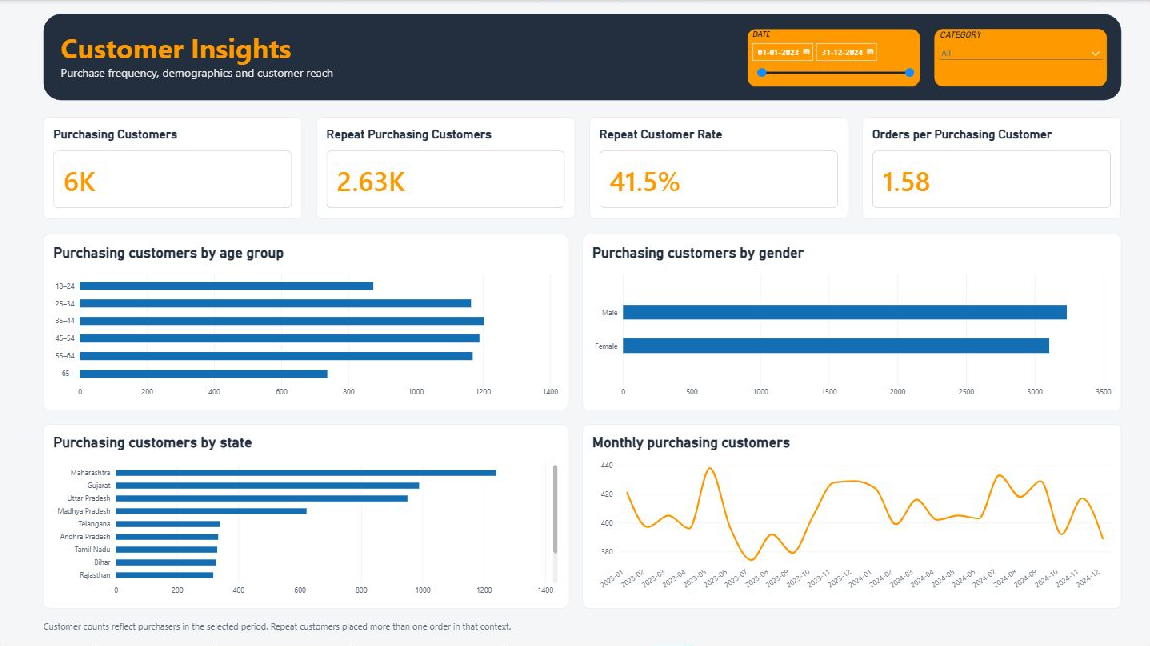

The page's visual inventory and layout, read from the dashboard file:
{"tool":"powerbi","page":{"name":"Customer Insights","canvas":[1920,1080],"ordinal":2},"visuals":[{"type":"cardVisual","title":"Repeat Purchasing Customers","fields":{"Data":["Dim_Customer.Repeat Purchasing Customers"]},"box":[528,196,432,170],"z":0},{"type":"clusteredBarChart","title":"Purchasing customers by gender","fields":{"Category":["Dim_Customer.Gender"],"Y":["Dim_Customer.Purchasing Customers"]},"box":[972,390,900,294],"z":1000},{"type":"cardVisual","title":"Orders per Purchasing Customer","fields":{"Data":["Dim_Customer.Orders per Purchasing Customer"]},"box":[1440,196,432,170],"z":2000},{"type":"textbox","box":[72,24,1800,144],"z":3000},{"type":"cardVisual","title":"Repeat Customer Rate","fields":{"Data":["Dim_Customer.Repeat Customer Rate"]},"box":[984,196,432,170],"z":4000},{"type":"clusteredBarChart","title":"Purchasing customers by state","fields":{"Category":["Dim_Customer.State"],"Y":["Dim_Customer.Purchasing Customers"]},"box":[72,708,876,308],"z":5000},{"type":"slicer","fields":{"Values":["Dim_Date.Date"]},"box":[1248,48,288,96],"z":6000},{"type":"lineChart","title":"Monthly purchasing customers","fields":{"Category":["Dim_Date.Year-Month"],"Y":["Dim_Customer.Purchasing Customers"]},"box":[972,708,900,308],"z":7000},{"type":"cardVisual","title":"Purchasing Customers","fields":{"Data":["Dim_Customer.Purchasing Customers"]},"box":[72,196,432,170],"z":8000},{"type":"clusteredBarChart","title":"Purchasing customers by age group","fields":{"Category":["Dim_Customer.Age Group"],"Y":["Dim_Customer.Purchasing Customers"]},"box":[72,390,876,294],"z":9000},{"type":"slicer","fields":{"Values":["Dim_Product.Category"]},"box":[1560,48,288,96],"z":10000},{"type":"textbox","box":[72,1036,1800,32],"z":11000}]}

Visuals, with their boxes in screenshot pixels (x1, y1, x2, y2), scaled from the page's 1920x1080 canvas onto the 1150x646 screenshot:
"Repeat Purchasing Customers" cardVisual: locate(316, 117, 575, 219)
"Purchasing customers by gender" clusteredBarChart: locate(582, 233, 1121, 409)
"Orders per Purchasing Customer" cardVisual: locate(862, 117, 1121, 219)
textbox: locate(43, 14, 1121, 100)
"Repeat Customer Rate" cardVisual: locate(589, 117, 848, 219)
"Purchasing customers by state" clusteredBarChart: locate(43, 423, 568, 608)
slicer - Dim_Date.Date: locate(748, 29, 920, 86)
"Monthly purchasing customers" lineChart: locate(582, 423, 1121, 608)
"Purchasing Customers" cardVisual: locate(43, 117, 302, 219)
"Purchasing customers by age group" clusteredBarChart: locate(43, 233, 568, 409)
slicer - Dim_Product.Category: locate(934, 29, 1107, 86)
textbox: locate(43, 620, 1121, 639)
